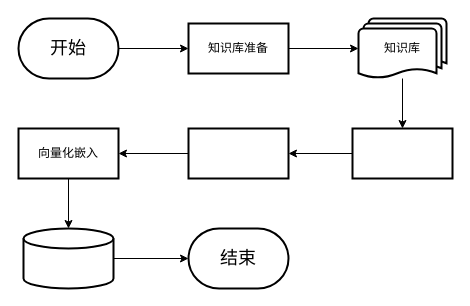
Image size: 470x306. Some labels were removed from this diagram. Here are the shapes that lost their labels. From the top down, the centre of each, then its label:
At (238,153): "文本分割处理".
At (402,153): "上传知识库".
At (68,258): "向量数据库".
